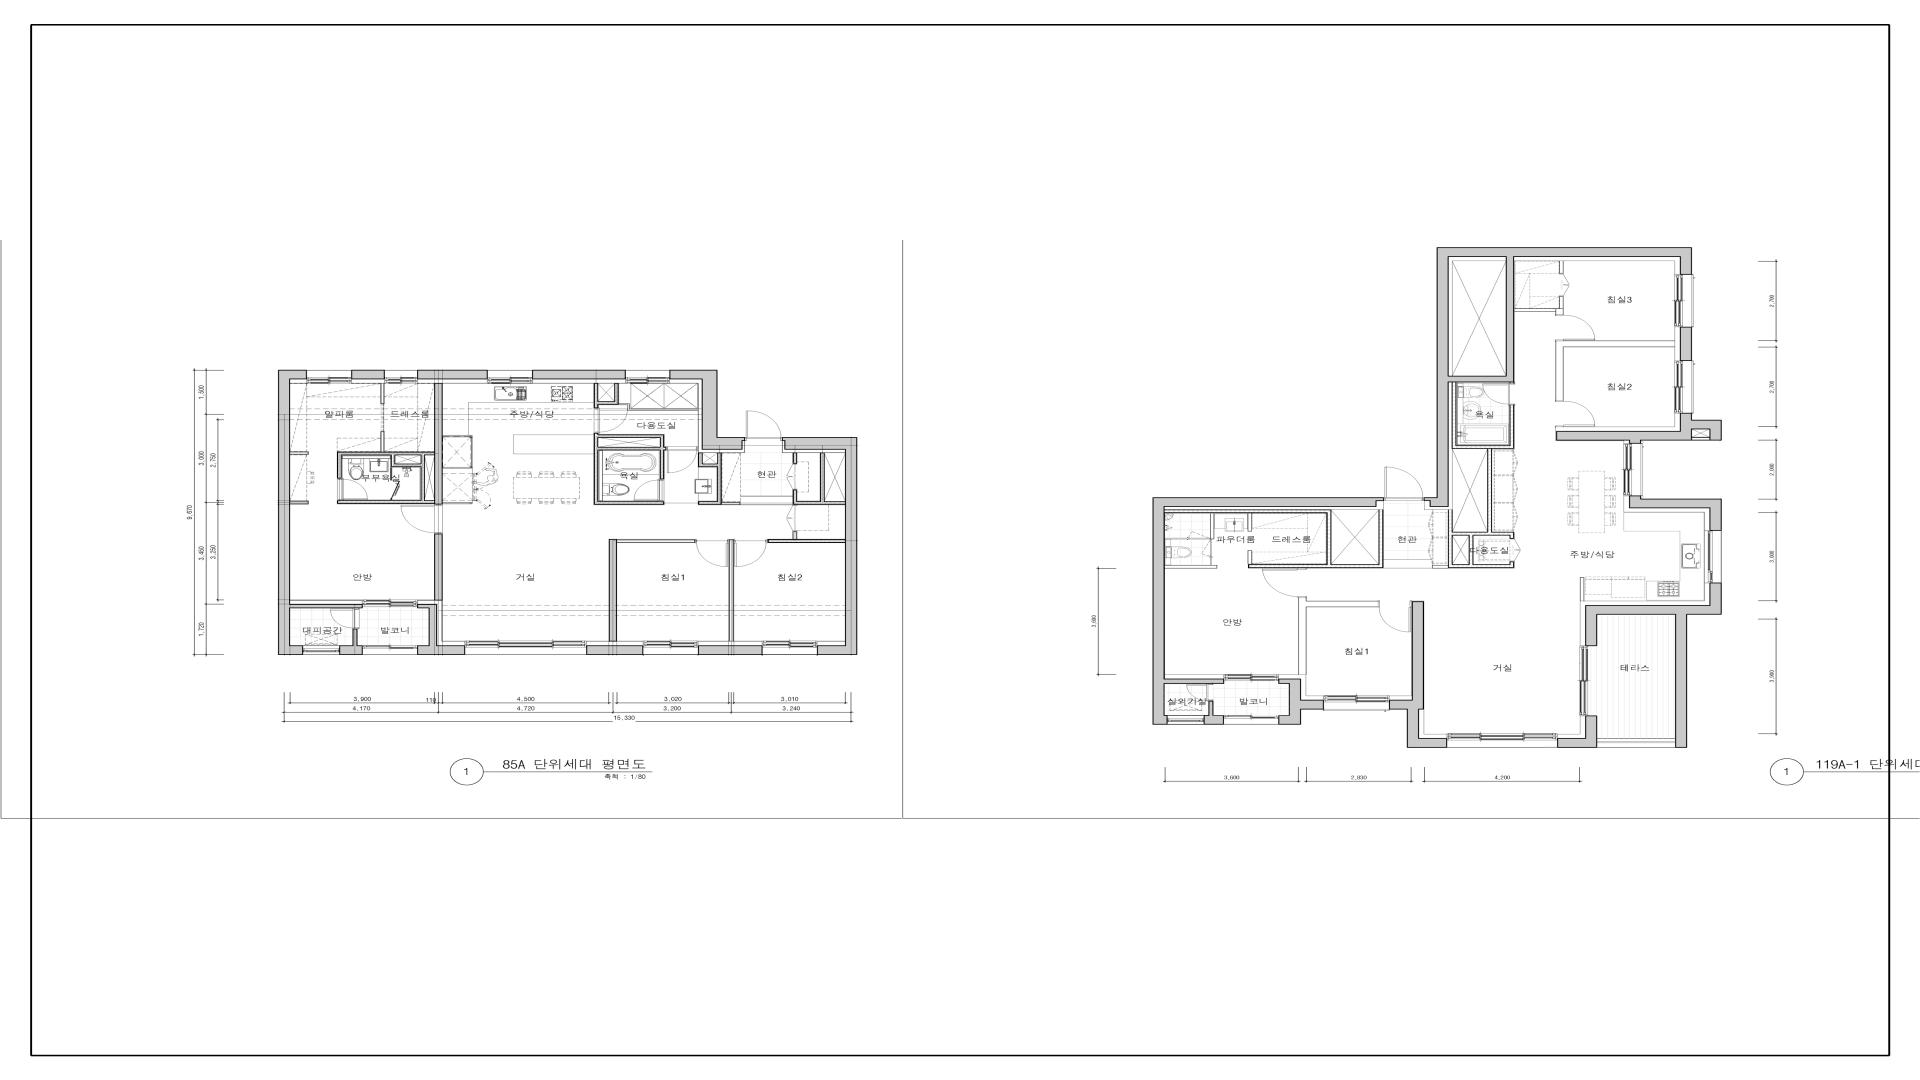door: (1385, 467, 1424, 501), (400, 504, 443, 534), (1262, 568, 1307, 597), (1378, 601, 1412, 633), (1555, 401, 1596, 427), (745, 411, 782, 440), (1555, 315, 1596, 340), (695, 539, 729, 567), (735, 539, 767, 567), (593, 407, 628, 434), (666, 447, 698, 473), (1482, 384, 1515, 405), (634, 479, 665, 501), (338, 479, 368, 501), (330, 608, 360, 629), (1187, 684, 1213, 702), (786, 505, 798, 531), (390, 468, 400, 500), (786, 464, 796, 489), (1510, 539, 1520, 562), (1201, 539, 1212, 558), (1188, 531, 1211, 539), (381, 404, 385, 433)
wall: (1424, 247, 1692, 508), (1153, 497, 1385, 725), (278, 369, 363, 655), (1585, 583, 1722, 748), (782, 438, 857, 655), (1432, 382, 1514, 568), (1164, 509, 1383, 568), (338, 382, 443, 505), (609, 539, 695, 642), (1389, 601, 1447, 748), (1449, 257, 1514, 382), (1556, 340, 1675, 401), (1299, 597, 1378, 675), (670, 371, 745, 450), (1556, 413, 1722, 444), (593, 434, 666, 505), (1629, 496, 1722, 531), (793, 452, 845, 505), (417, 604, 465, 655), (698, 452, 740, 505), (1278, 679, 1324, 725), (396, 455, 434, 502), (1557, 716, 1597, 748), (1514, 297, 1564, 315), (767, 531, 845, 543), (531, 371, 626, 380), (417, 369, 488, 380), (599, 435, 659, 447), (728, 539, 735, 641), (593, 382, 618, 409), (339, 629, 363, 655), (434, 534, 443, 600), (698, 646, 762, 655), (1164, 558, 1217, 568), (587, 646, 644, 655), (1204, 702, 1224, 725), (1680, 327, 1692, 361), (351, 369, 385, 380), (1469, 535, 1474, 564), (1211, 514, 1215, 539), (1580, 578, 1584, 601), (381, 384, 385, 404), (290, 501, 309, 505), (290, 451, 309, 455), (1692, 436, 1709, 440), (793, 452, 798, 464), (1560, 261, 1564, 273), (1164, 538, 1187, 539), (1510, 382, 1514, 382)
window: (465, 641, 587, 655), (1448, 733, 1557, 748), (1580, 646, 1597, 716), (1623, 444, 1643, 496), (1675, 274, 1693, 327), (1675, 361, 1693, 413), (1324, 696, 1389, 711), (1705, 531, 1722, 583), (644, 641, 698, 655), (762, 641, 818, 654), (488, 371, 533, 384), (307, 371, 352, 384), (626, 371, 670, 384), (1224, 675, 1278, 684), (1224, 716, 1278, 725), (363, 646, 417, 655), (385, 371, 418, 384), (1168, 715, 1204, 725), (363, 600, 418, 607), (303, 646, 339, 655)
